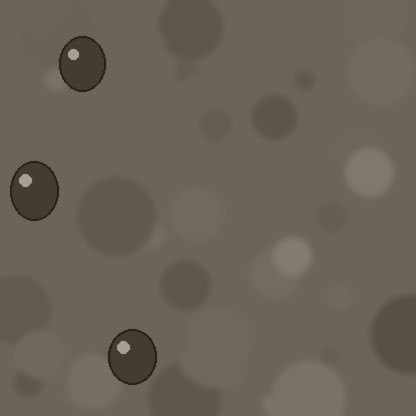gota: (10, 163, 58, 225), (108, 331, 156, 389), (59, 38, 105, 96)
